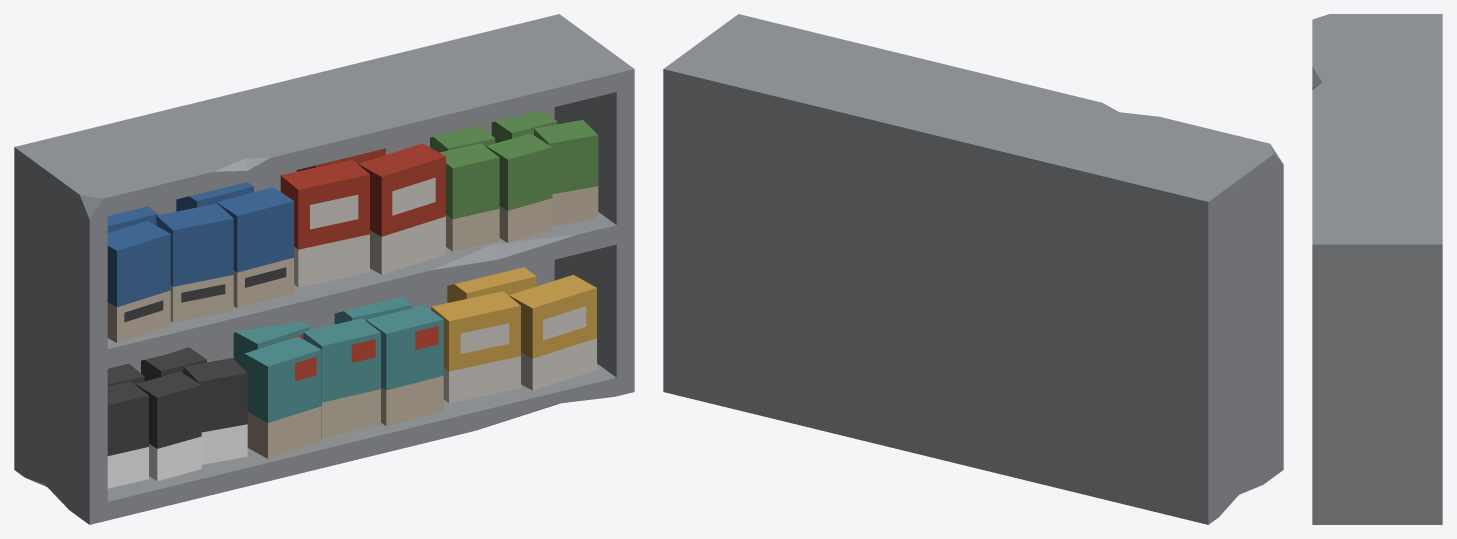
The model's file is SM_Prop_ShopShelf_Wall_01.fbx.
The picture shows the model from 3 angles, left to right: view 1: azimuth 30°, elevation 25°; view 2: azimuth 150°, elevation 25°; view 3: azimuth 270°, elevation 25°; orthographic projection. The views are drawn at different scales.
Visible parts, largest first — view 1: SM_Prop_ShopShelf_Wall_01; view 2: SM_Prop_ShopShelf_Wall_01; view 3: SM_Prop_ShopShelf_Wall_01.
Part boxes in pixels (x1,y1,x2,y2): SM_Prop_ShopShelf_Wall_01: (14, 14, 634, 524); SM_Prop_ShopShelf_Wall_01: (663, 14, 1283, 524); SM_Prop_ShopShelf_Wall_01: (1312, 14, 1442, 524).
Size of the model in its own units: 94.43 by 53.47 by 22.56.
